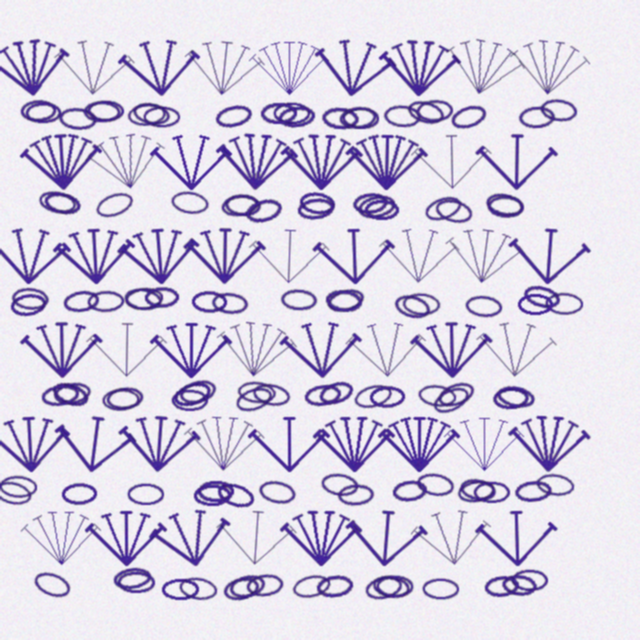chain: (430, 382, 473, 418), (93, 188, 136, 222), (422, 192, 465, 225), (435, 378, 478, 411), (49, 378, 91, 411), (233, 383, 275, 416), (31, 568, 73, 601), (214, 479, 257, 511), (448, 101, 490, 133), (171, 378, 213, 410), (316, 377, 357, 409), (325, 285, 367, 316), (177, 376, 219, 407), (352, 381, 394, 412), (405, 97, 446, 128), (243, 195, 284, 226), (392, 291, 433, 322), (433, 196, 475, 226), (521, 282, 562, 312), (227, 571, 268, 601), (213, 102, 254, 131), (37, 188, 78, 217), (356, 192, 397, 221), (484, 190, 525, 219), (221, 574, 262, 603), (291, 572, 332, 601), (363, 573, 404, 602), (42, 189, 82, 218), (131, 100, 172, 128), (251, 381, 292, 409), (495, 383, 536, 411), (257, 478, 297, 506), (458, 476, 498, 504), (52, 380, 93, 407), (415, 471, 456, 498), (456, 478, 497, 505), (170, 189, 210, 216), (220, 192, 260, 219), (123, 286, 163, 313), (40, 382, 80, 409), (112, 565, 152, 592), (178, 575, 218, 602), (371, 573, 411, 600), (9, 291, 48, 318), (62, 288, 101, 315), (303, 382, 342, 409), (320, 471, 359, 498), (105, 385, 145, 411), (417, 383, 457, 409), (535, 472, 575, 498), (245, 572, 285, 598), (0, 478, 34, 508), (277, 104, 316, 130), (539, 97, 578, 123), (298, 190, 337, 216), (296, 196, 335, 222), (315, 573, 354, 599), (338, 105, 378, 130), (124, 286, 164, 311), (391, 478, 429, 504), (58, 106, 97, 131), (127, 102, 166, 127), (324, 288, 363, 313), (464, 294, 503, 319), (237, 380, 276, 405), (11, 286, 49, 311), (211, 291, 249, 316), (514, 479, 552, 504), (483, 574, 521, 599), (383, 104, 422, 128), (402, 292, 441, 316), (352, 191, 389, 216), (501, 573, 538, 598), (321, 106, 359, 130), (518, 105, 556, 129), (224, 193, 262, 217), (280, 288, 318, 312), (492, 386, 530, 410), (337, 483, 375, 507), (87, 290, 125, 313), (545, 292, 583, 315), (102, 388, 140, 411), (20, 99, 57, 122), (416, 99, 453, 122), (487, 195, 524, 218), (191, 290, 228, 313), (369, 385, 406, 408), (0, 475, 37, 498), (61, 482, 98, 505), (83, 101, 121, 123), (193, 484, 231, 506), (117, 571, 155, 593), (161, 578, 199, 600), (376, 575, 414, 597), (144, 286, 180, 309), (25, 102, 62, 124), (87, 100, 124, 122), (143, 106, 180, 128), (273, 102, 310, 124), (260, 102, 297, 124), (342, 107, 379, 129), (517, 293, 554, 315), (171, 389, 208, 411), (127, 483, 164, 505), (197, 480, 234, 502), (473, 481, 510, 503), (422, 578, 459, 600), (511, 569, 548, 591), (364, 199, 400, 221)
fan: (438, 28, 531, 105), (146, 500, 237, 574), (81, 124, 172, 197), (310, 31, 400, 103), (440, 219, 530, 291), (50, 407, 140, 479), (212, 313, 301, 384), (180, 32, 269, 102), (506, 32, 594, 101), (408, 502, 496, 571), (116, 221, 203, 289), (506, 221, 593, 289), (343, 503, 430, 571), (51, 33, 138, 100), (473, 315, 560, 382), (116, 409, 203, 476), (213, 503, 300, 570), (117, 33, 203, 100), (19, 127, 105, 194), (214, 127, 300, 194), (377, 34, 463, 100), (52, 222, 138, 288), (377, 222, 462, 287), (279, 316, 364, 381), (344, 316, 429, 381), (182, 410, 267, 475), (507, 410, 592, 475), (247, 223, 332, 287), (312, 223, 397, 287), (280, 129, 364, 193), (345, 129, 429, 193), (475, 505, 559, 569), (0, 31, 75, 102), (410, 129, 494, 192), (475, 129, 559, 192), (183, 223, 267, 286), (20, 317, 104, 380), (85, 317, 169, 380), (410, 317, 494, 380), (248, 36, 331, 98), (150, 130, 233, 192), (150, 318, 233, 380), (248, 412, 331, 474), (313, 412, 396, 474), (378, 412, 461, 474), (443, 412, 526, 474), (20, 506, 103, 568), (85, 506, 168, 568), (280, 506, 363, 568), (0, 222, 73, 288), (0, 410, 73, 476)
